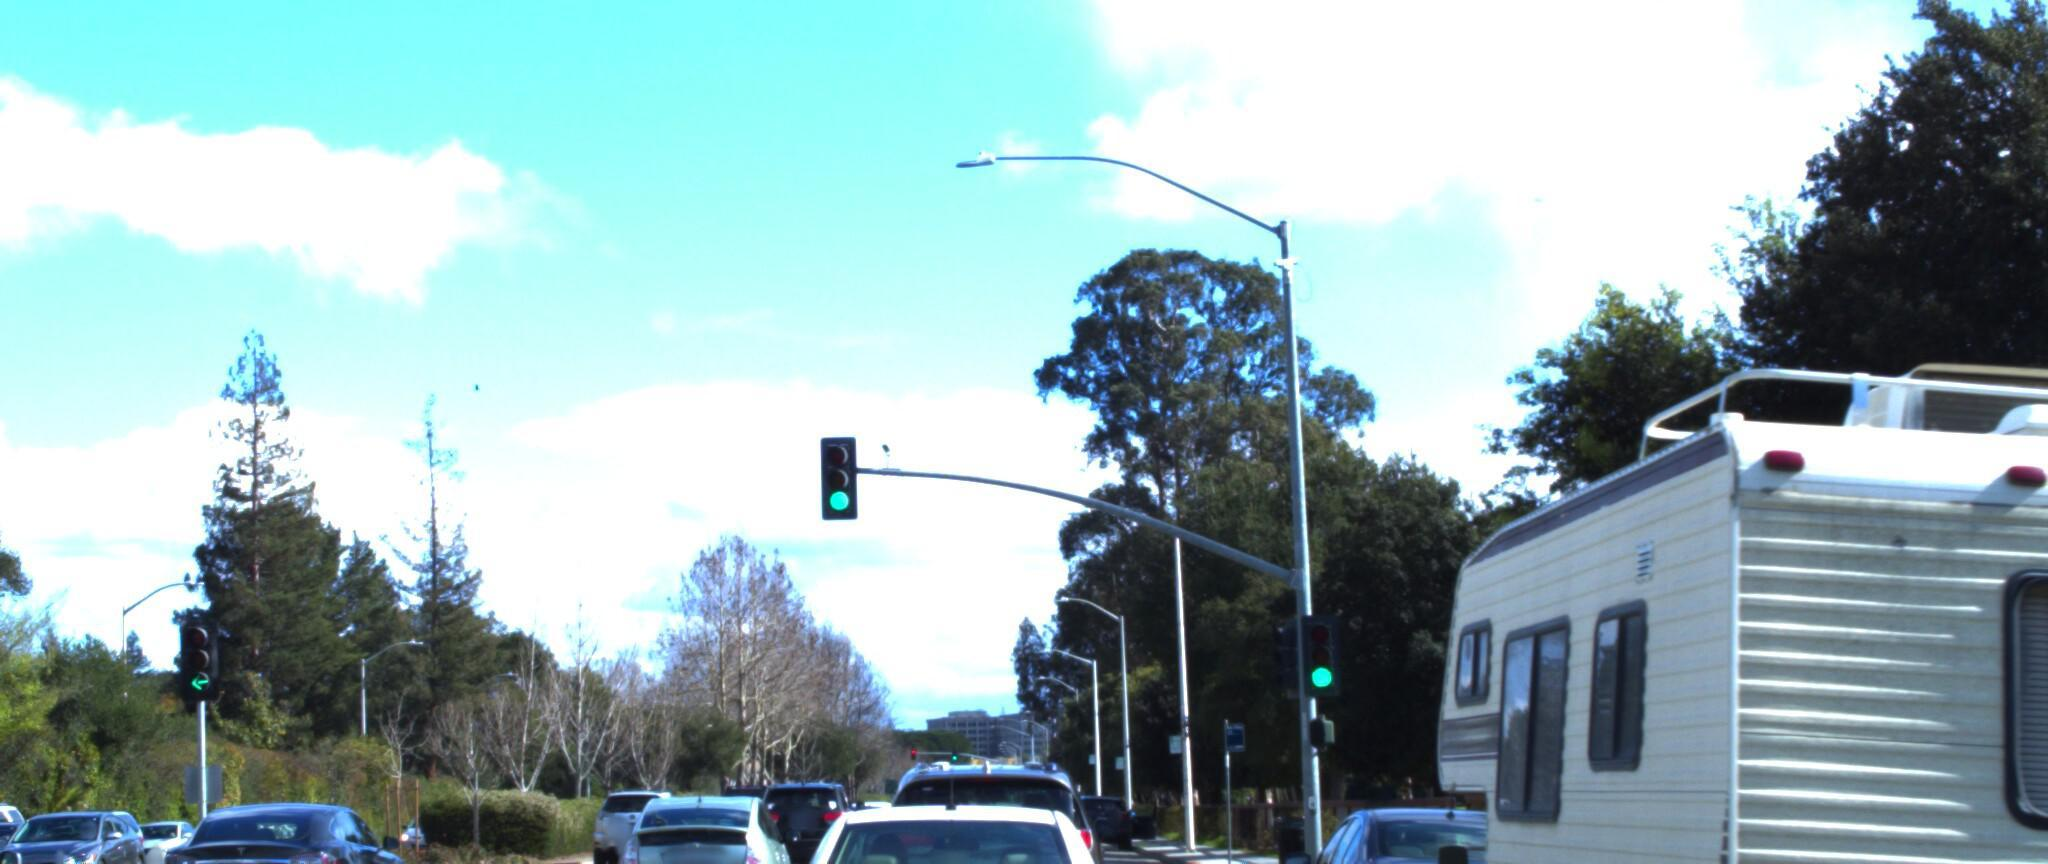car: (714, 707, 1121, 864), (895, 692, 1121, 864), (1277, 764, 1604, 864), (141, 756, 434, 864), (607, 764, 799, 864), (0, 747, 131, 864), (0, 777, 165, 864), (758, 757, 878, 860), (577, 764, 688, 844)
other_vehicle: (1353, 228, 2048, 864)
